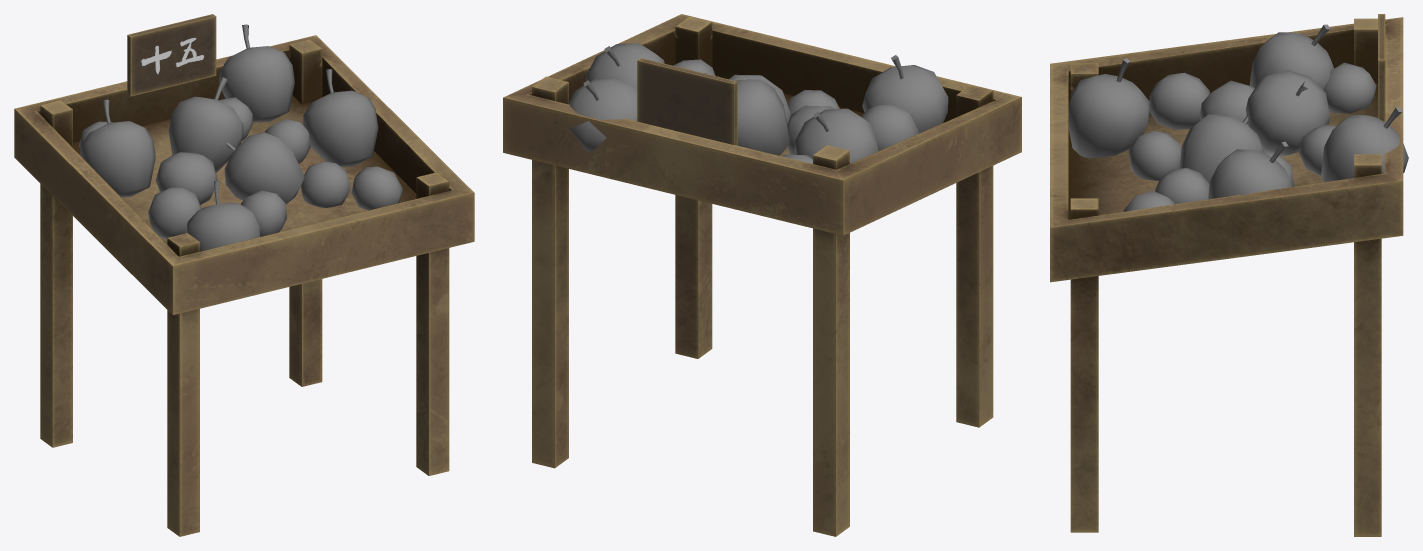
Rendered from SM_markettable_02.fbx.
The picture shows the model from 3 angles, left to right: view 1: azimuth 30°, elevation 25°; view 2: azimuth 150°, elevation 25°; view 3: azimuth 270°, elevation 25°; orthographic projection. The views are drawn at different scales.
Parts seen in each view (by area): view 1: Box388; view 2: Box388; view 3: Box388.
Boxes of the visible parts, box(x1,y1,x2,y2) form: Box388: box(14, 14, 474, 536); Box388: box(503, 14, 1021, 536); Box388: box(1050, 14, 1408, 536).
Bounding box in the file's own units: 38.69 × 46.69 × 35.75.
